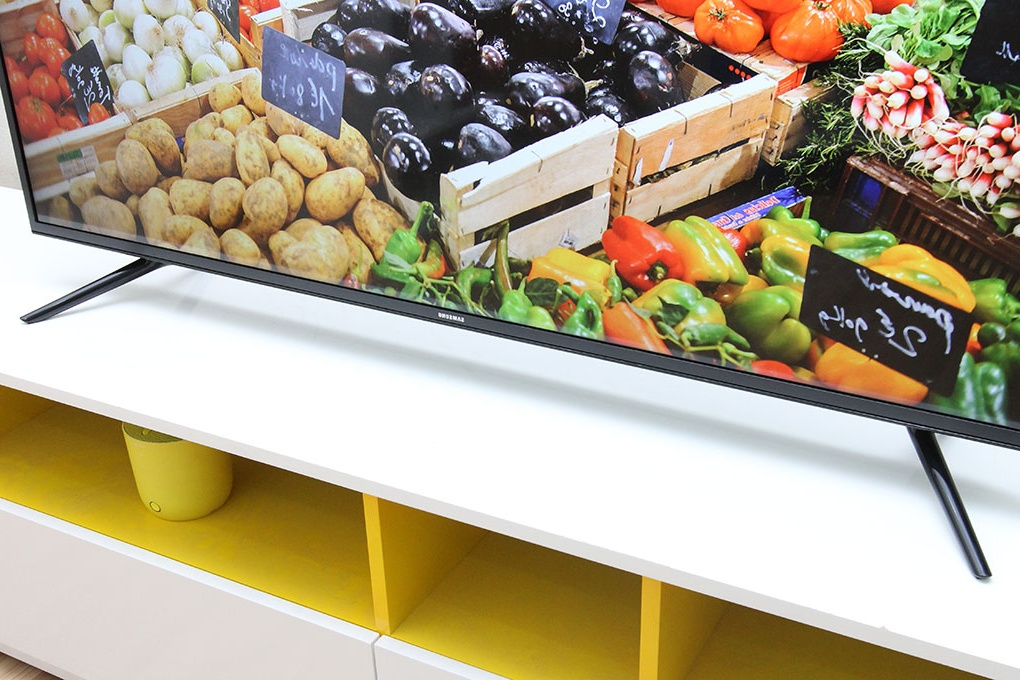SAMSUNG: (342, 276, 569, 409)
